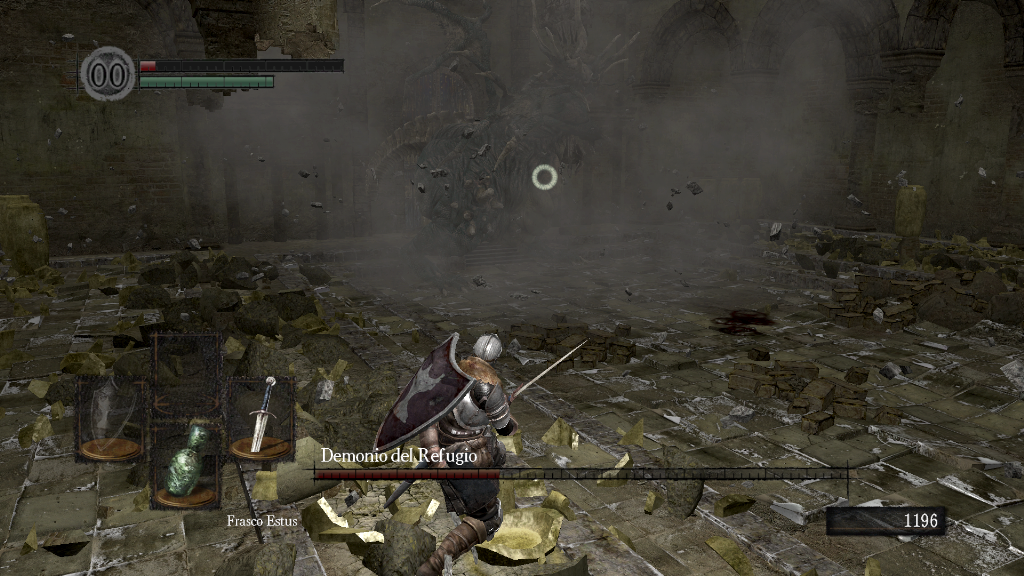bossHP: (314, 469, 847, 479)
health: (138, 58, 343, 71)
humanity: (80, 45, 136, 102)
player: (376, 333, 595, 573)
souls: (825, 506, 945, 536)
stamina: (138, 74, 274, 88)
